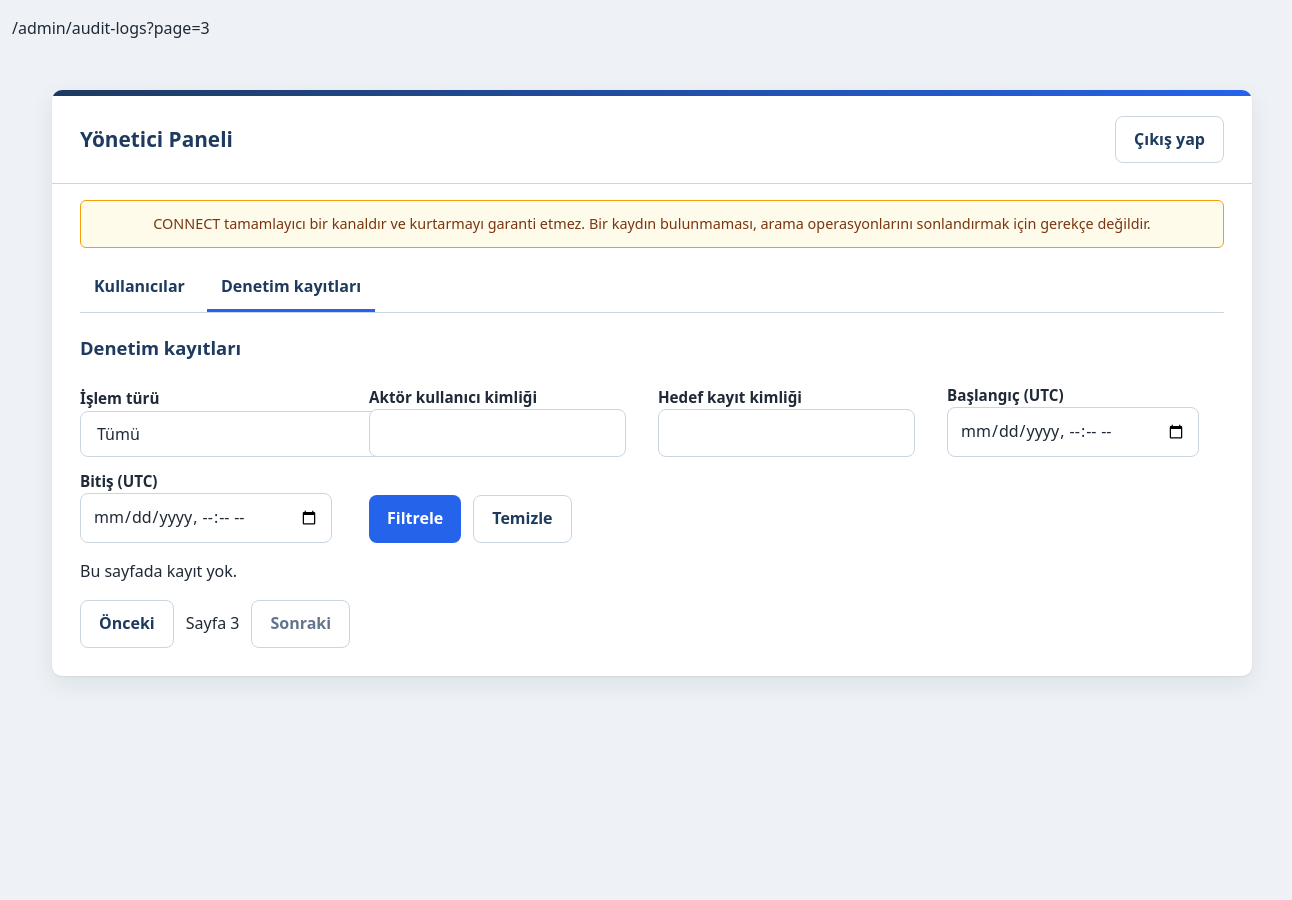
Test: AuditLogPage › writes the filters to the URL on submit (page reset) and requests offset 0
The width and height of the screenshot is (1292, 900).
Expected: the text "Bu sayfada kayıt yok." is shown, x1=80 y1=560 x2=237 y2=582
Step 1. Select "Giriş (LOGIN)" in the dropdown labelled "İşlem türü" → (290, 434), box x1=80 y1=411 x2=500 y2=457
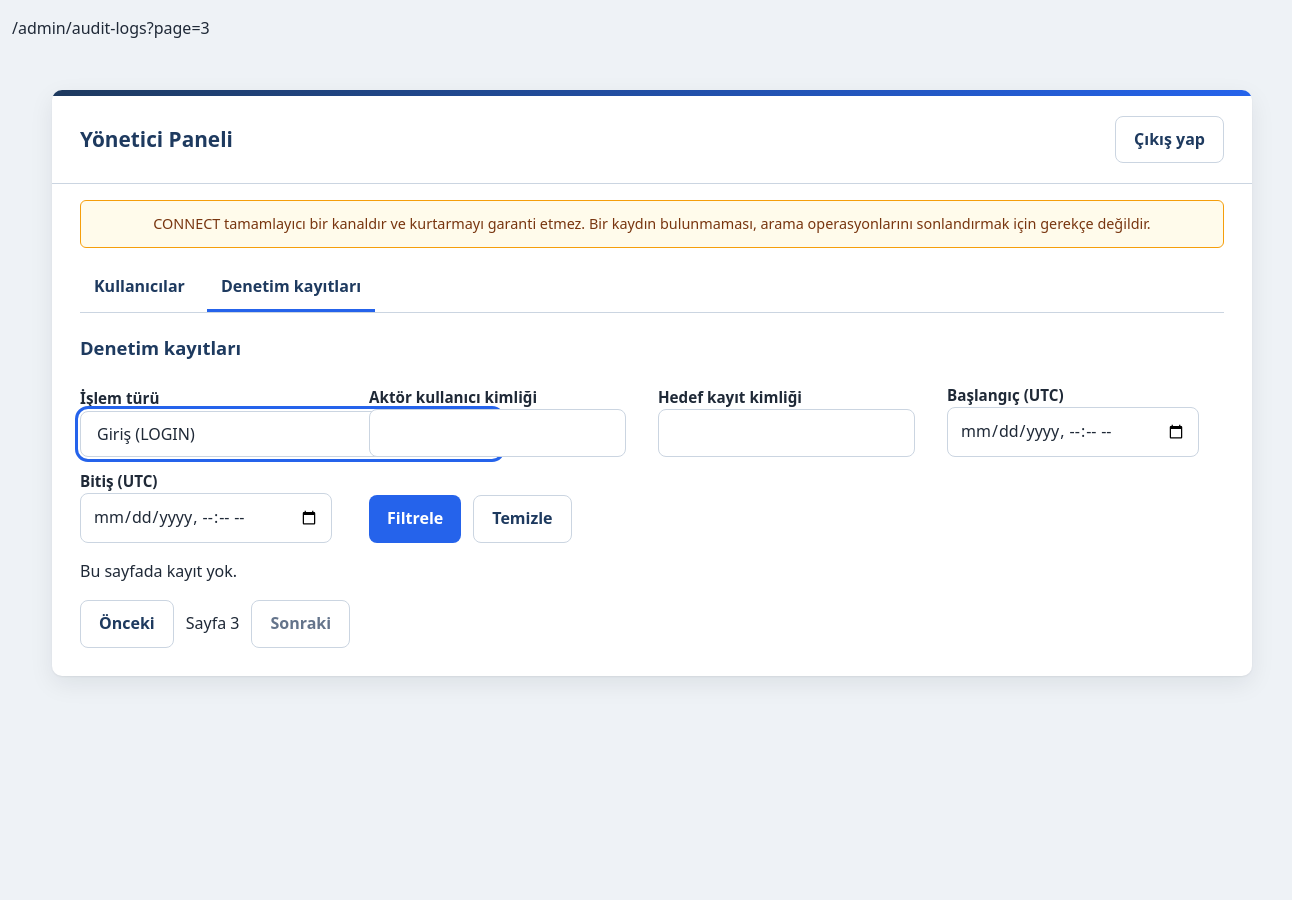
Step 2. Type "11111111-1111-4111-8111-111111111111" into the field labelled "Hedef kayıt kimliği" → (786, 433), box x1=658 y1=409 x2=915 y2=457
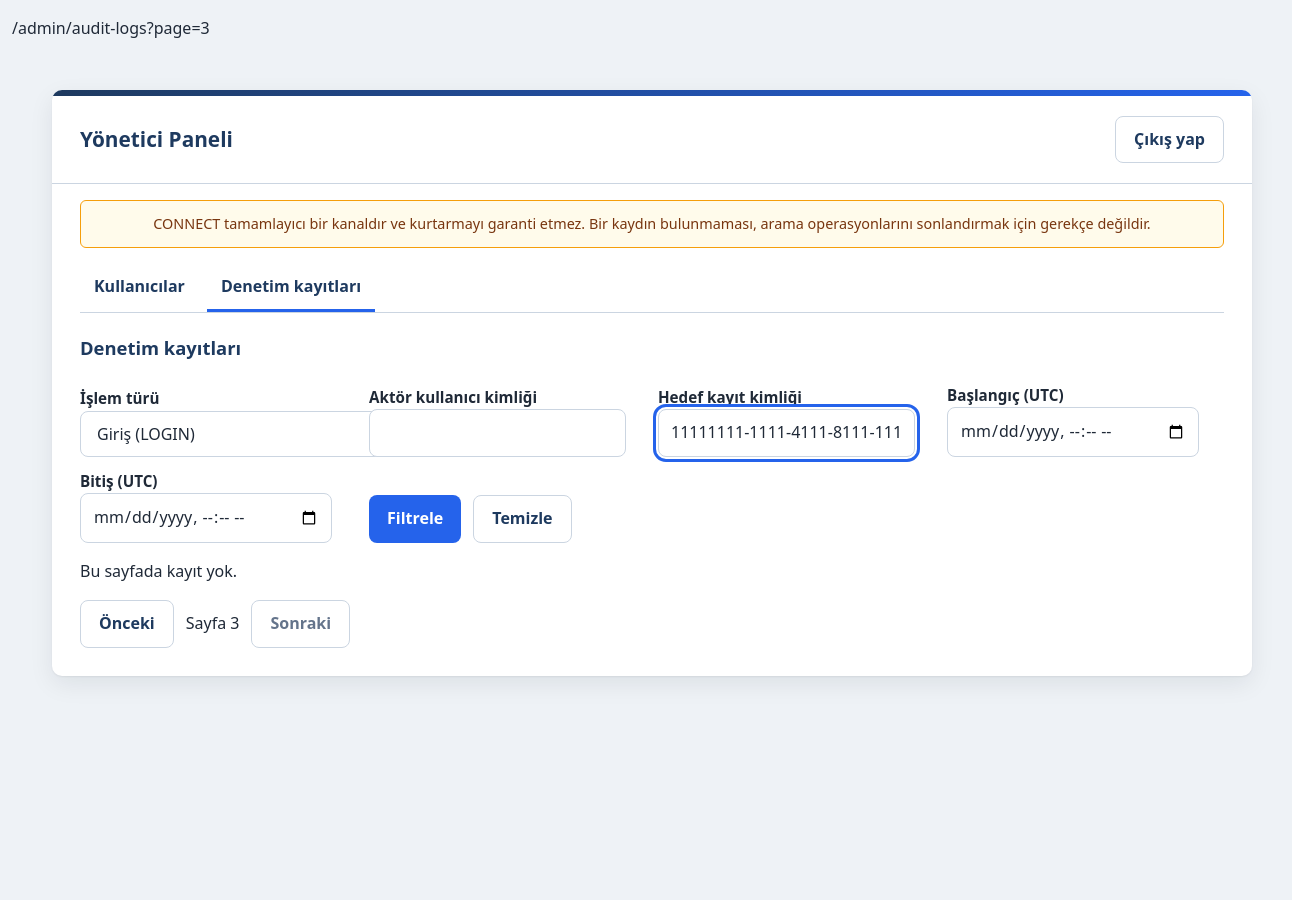
Step 3. Click the button "Filtrele" → (415, 519), box x1=369 y1=495 x2=461 y2=543
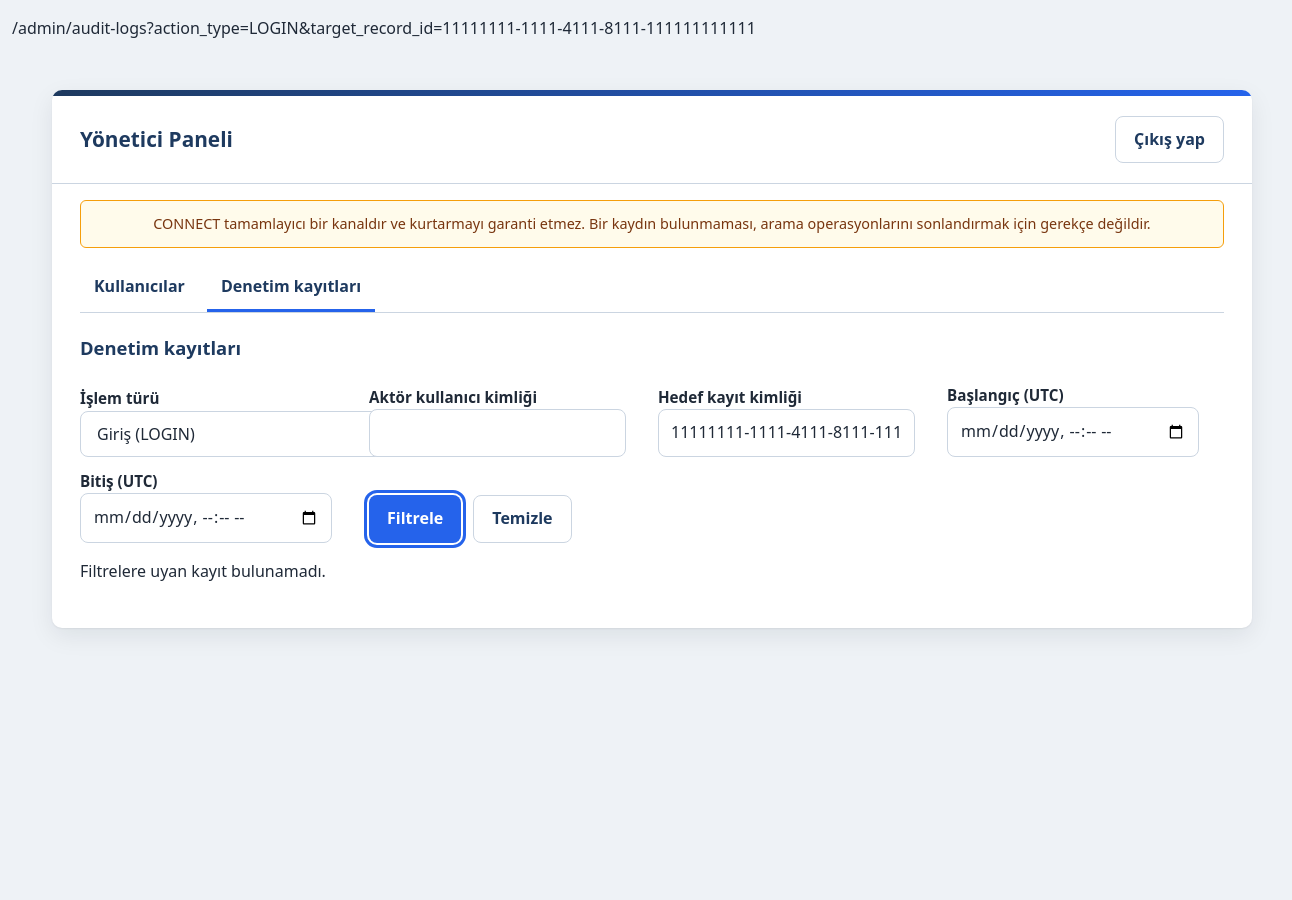
Expected: the text "Filtrelere uyan kayıt bulunamadı." is shown, x1=80 y1=560 x2=326 y2=582
